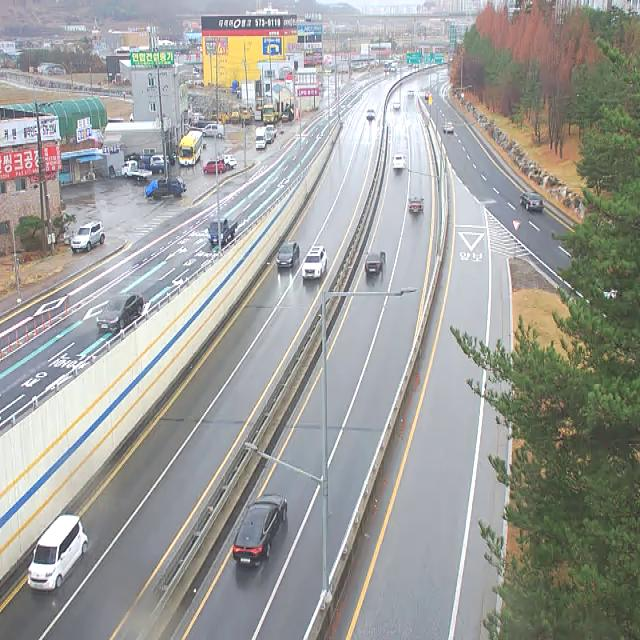Bus: (179, 130, 203, 166)
Car: (28, 516, 89, 590), (232, 493, 287, 565), (96, 293, 143, 329), (71, 220, 105, 254), (302, 246, 327, 280), (208, 218, 238, 243), (278, 242, 300, 269), (365, 250, 386, 275), (520, 193, 543, 210), (198, 124, 223, 137), (203, 161, 224, 174), (409, 197, 424, 213), (223, 155, 237, 170), (150, 155, 170, 165), (393, 154, 405, 169), (266, 125, 277, 138), (443, 122, 454, 133), (282, 112, 292, 122), (266, 133, 274, 144), (366, 110, 375, 119), (393, 102, 401, 110), (407, 89, 414, 97)
Truck: (151, 177, 187, 200), (122, 161, 152, 181), (138, 155, 164, 173), (262, 105, 278, 123), (256, 127, 266, 150)
